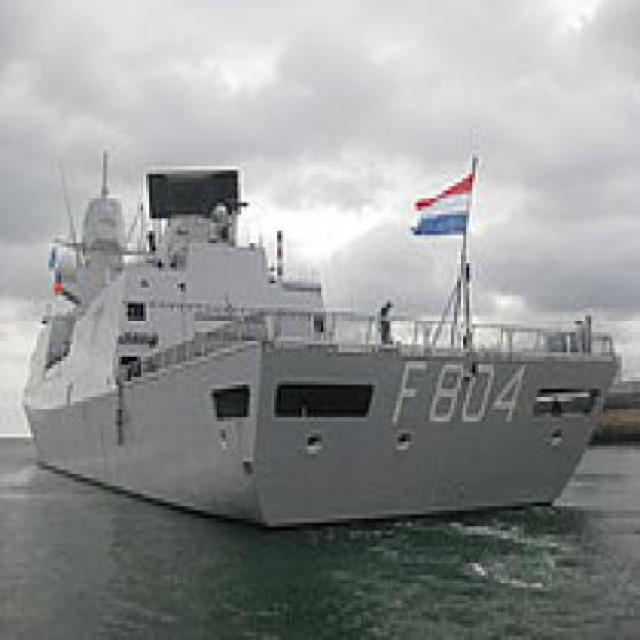warship2: (23, 119, 601, 528)
